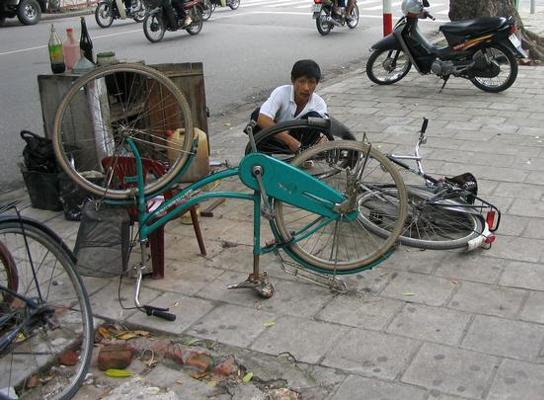person: (247, 58, 330, 157)
